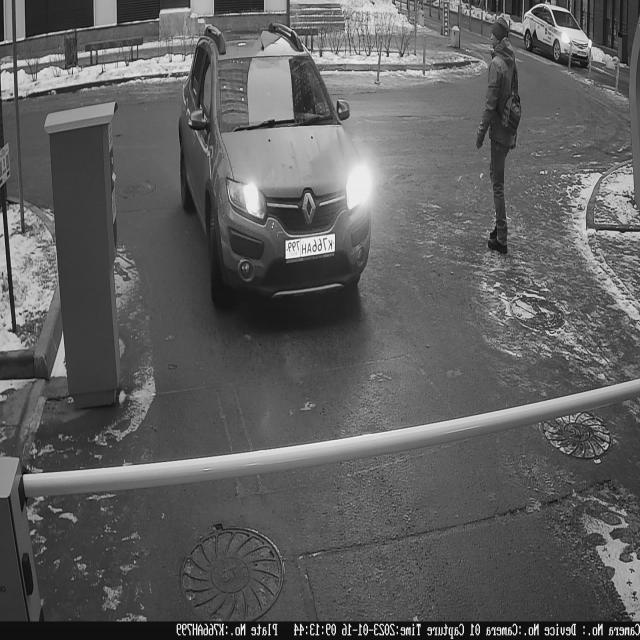car-plate-numbers: (285, 230, 339, 267)
